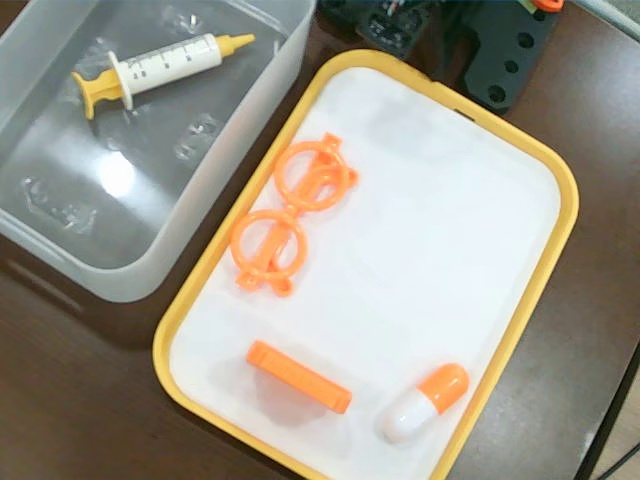pill: (383, 363, 472, 445)
syringe: (70, 32, 258, 121)
